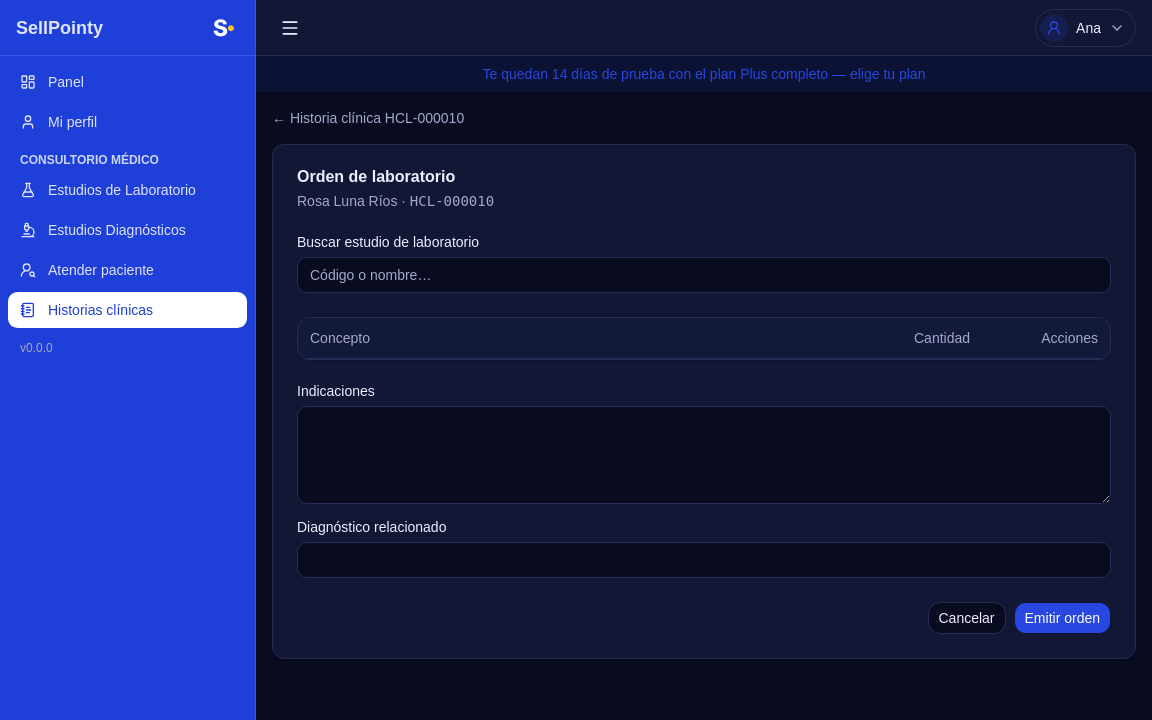
Test: orden de laboratorio (F9-CLINIC-WEB-17) › no lista el catálogo sin buscar: se escribe y aparecen los aciertos
The image size is (1152, 720).
Check: the heading "Orden de laboratorio" is shown, box [297,168,455,185]
Check: the text "Biometría hemática" is not shown
In the search field labelled "Buscar estudio de laboratorio": (704, 275) [297,257,1111,293], type "b"
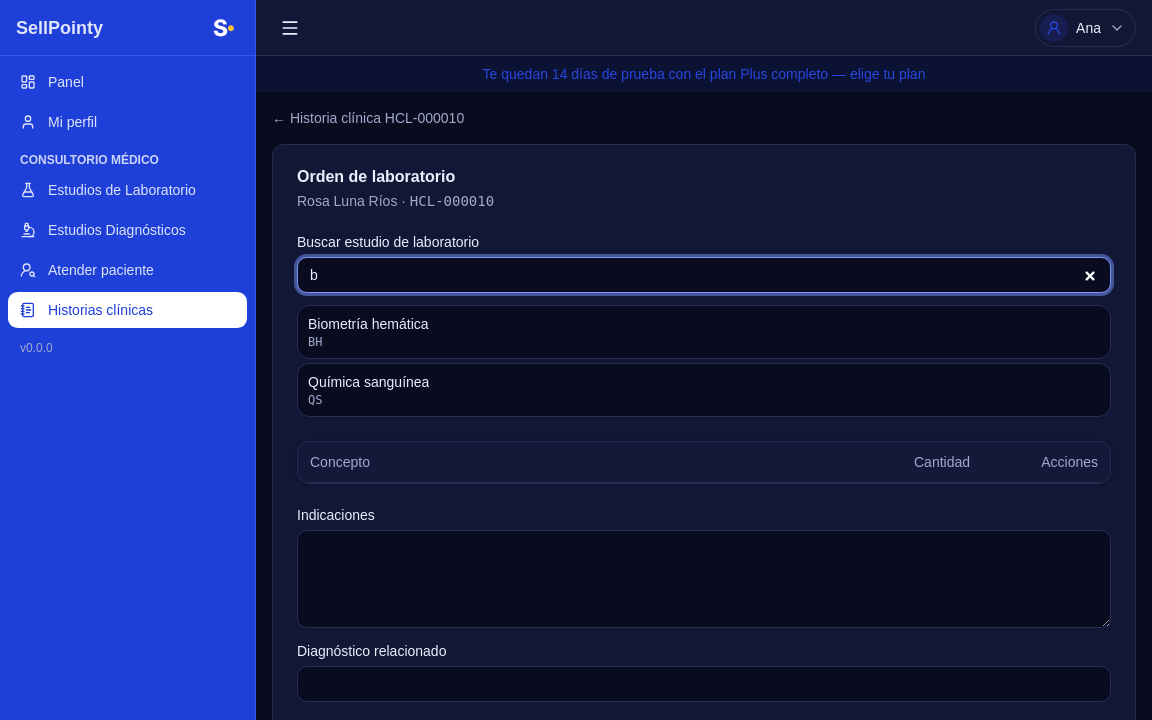
Check: the button "Biometría hemática BH" is shown, box [297,305,1111,359]
